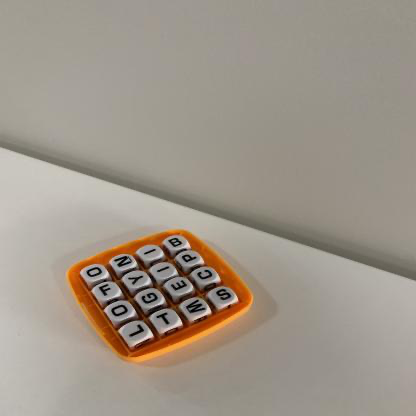b: (166, 236, 189, 250)
c: (194, 268, 219, 285)
e: (168, 277, 194, 296)
f: (95, 283, 121, 300)
g: (137, 289, 164, 308)
i: (151, 263, 176, 281), (139, 245, 162, 261)
l: (122, 322, 150, 342)
n: (112, 255, 137, 271)
o: (107, 301, 134, 322), (84, 265, 109, 282)
p: (177, 251, 201, 268)
s: (210, 288, 237, 306)
t: (152, 310, 181, 330)
w: (182, 299, 209, 317)
y: (124, 271, 151, 290)
